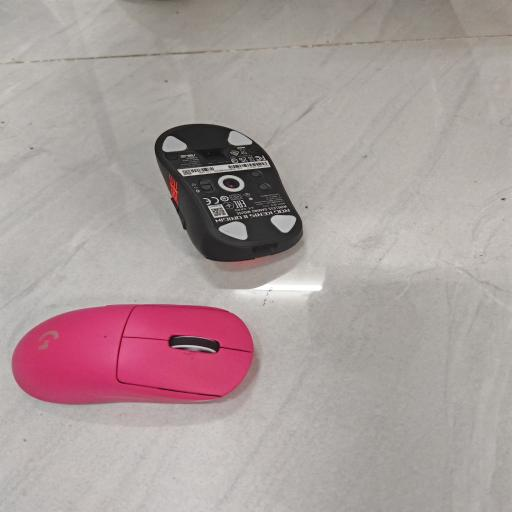mouse: (12, 305, 253, 404), (155, 124, 302, 261)
